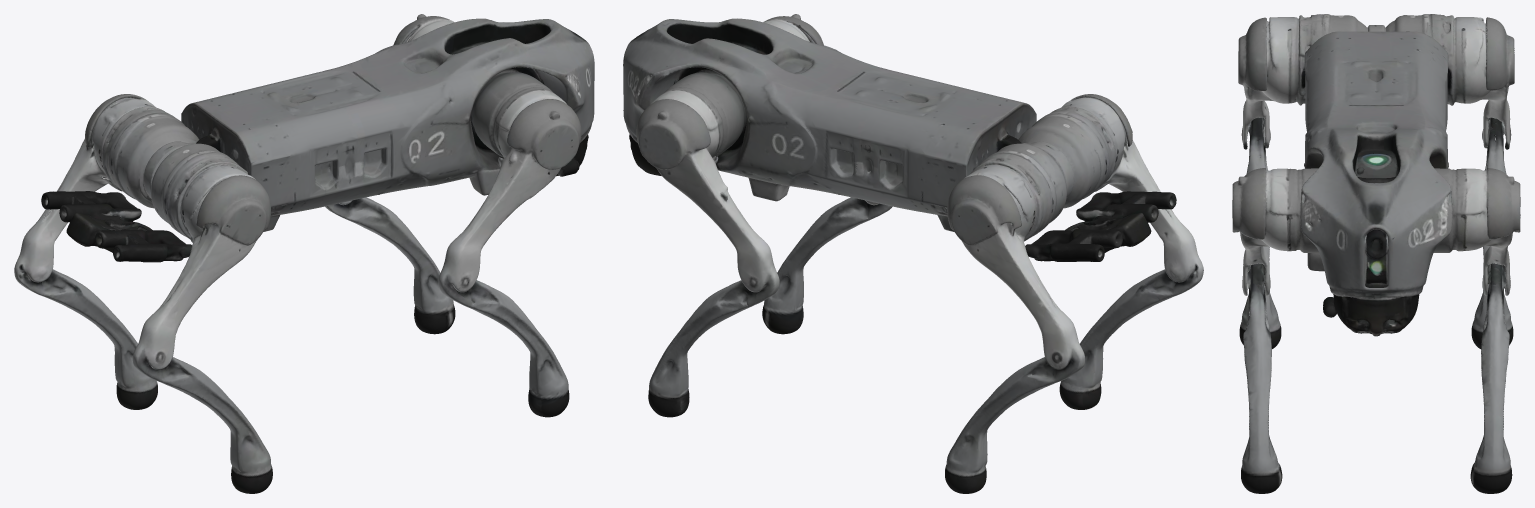
Rendered from robotdog.glb.
The picture shows the model from 3 angles, left to right: view 1: azimuth 30°, elevation 25°; view 2: azimuth 150°, elevation 25°; view 3: azimuth 270°, elevation 25°; orthographic projection.
Parts seen in each view (by area): view 1: tripo_node_a3abd056-c369-47fd-b463-bb5e40d5bfbb; view 2: tripo_node_a3abd056-c369-47fd-b463-bb5e40d5bfbb; view 3: tripo_node_a3abd056-c369-47fd-b463-bb5e40d5bfbb.
Boxes of the visible parts, x1,y1,x2,y2 form: tripo_node_a3abd056-c369-47fd-b463-bb5e40d5bfbb: (14,14,594,493); tripo_node_a3abd056-c369-47fd-b463-bb5e40d5bfbb: (623,14,1203,493); tripo_node_a3abd056-c369-47fd-b463-bb5e40d5bfbb: (1232,14,1520,493).
Bounding box in the file's own units: 1 × 0.6362 × 0.4792.
1 material, 1 textured.
